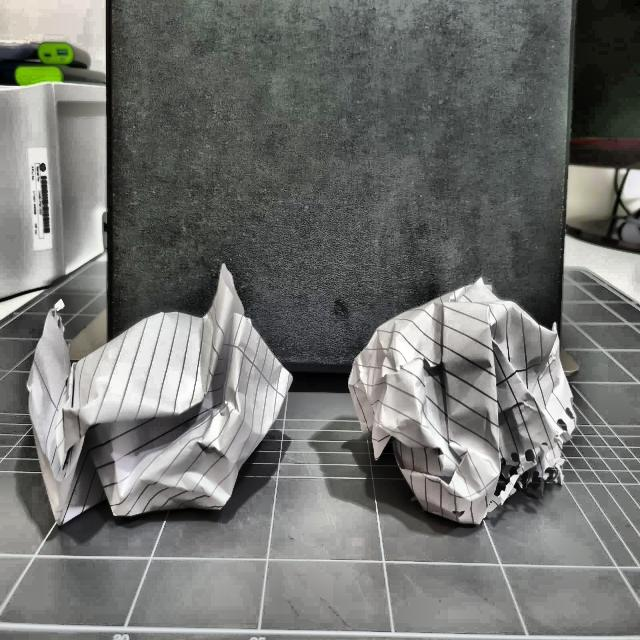Paper: (24, 269, 286, 523), (338, 264, 584, 531)
